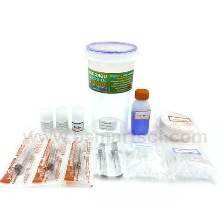insecticide: (127, 85, 154, 139)
plastic_box: (80, 38, 141, 139)
